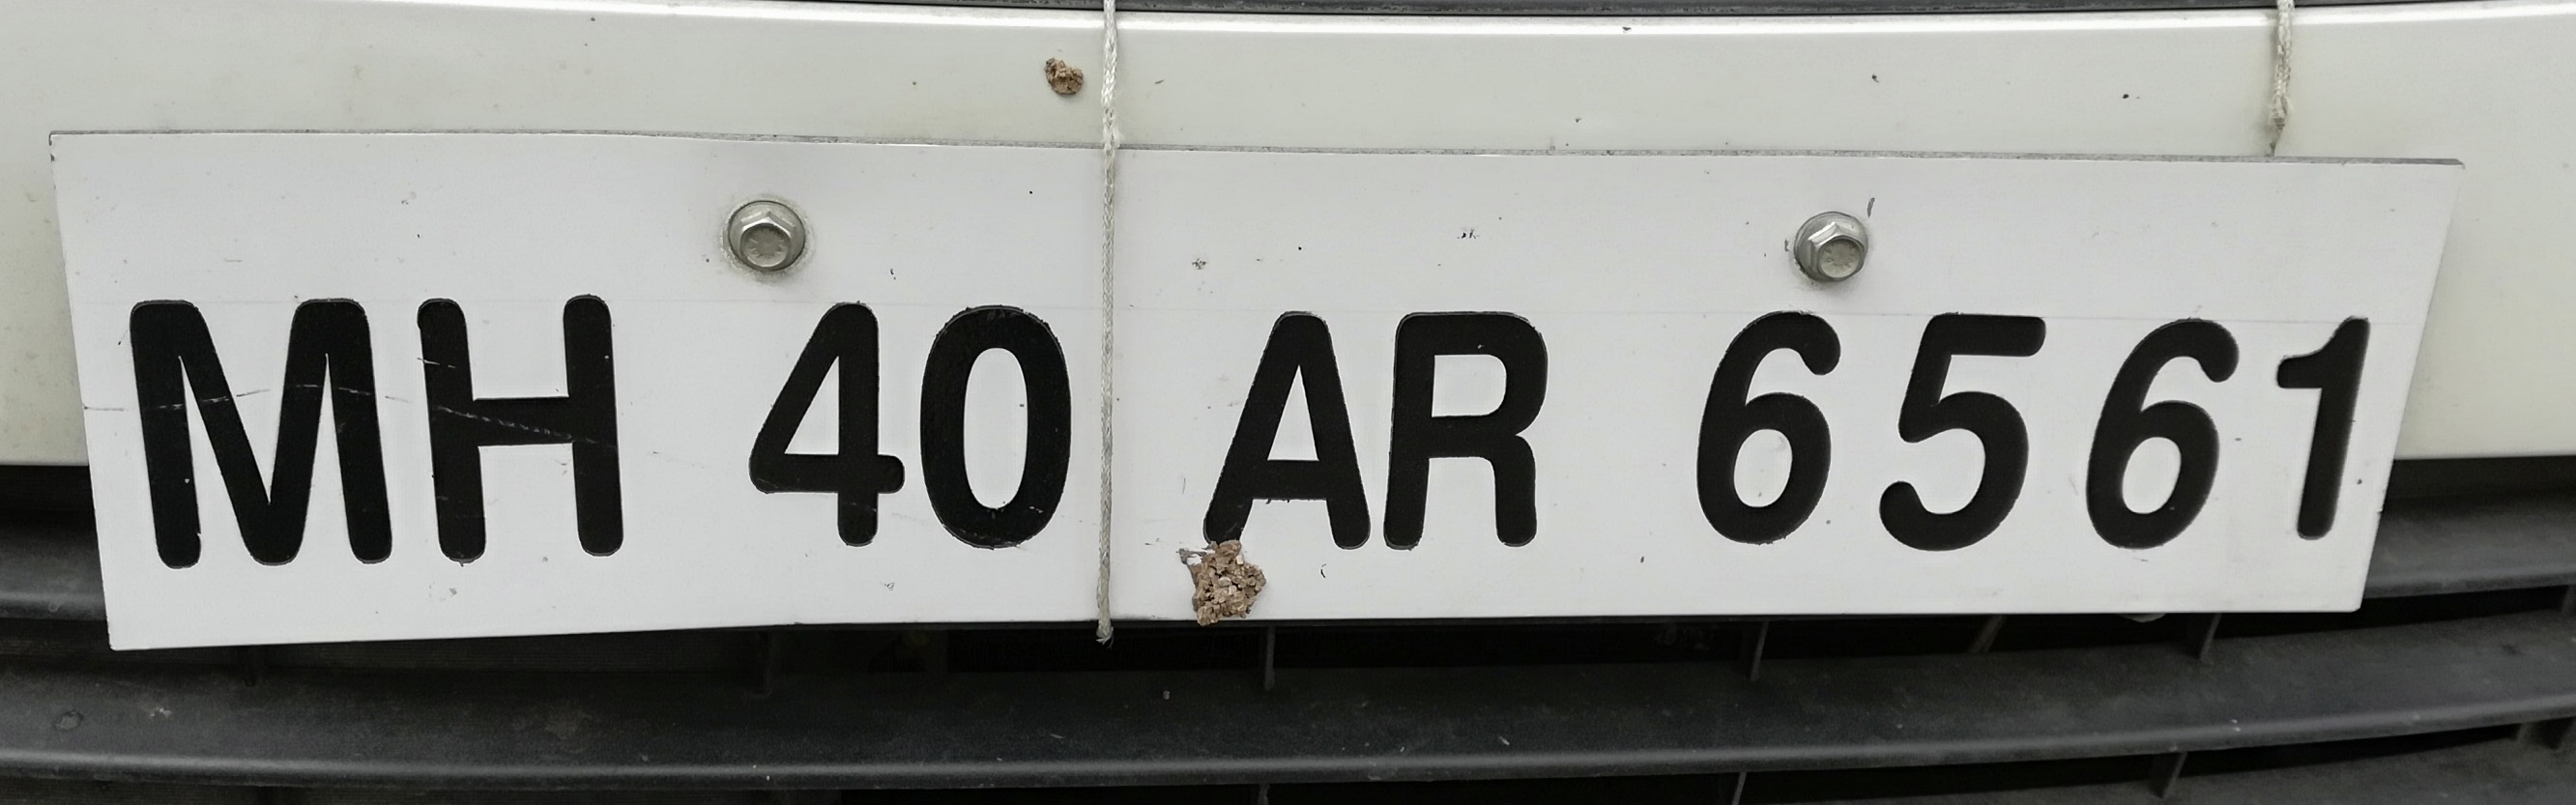numberplate: (35, 120, 2470, 662)
